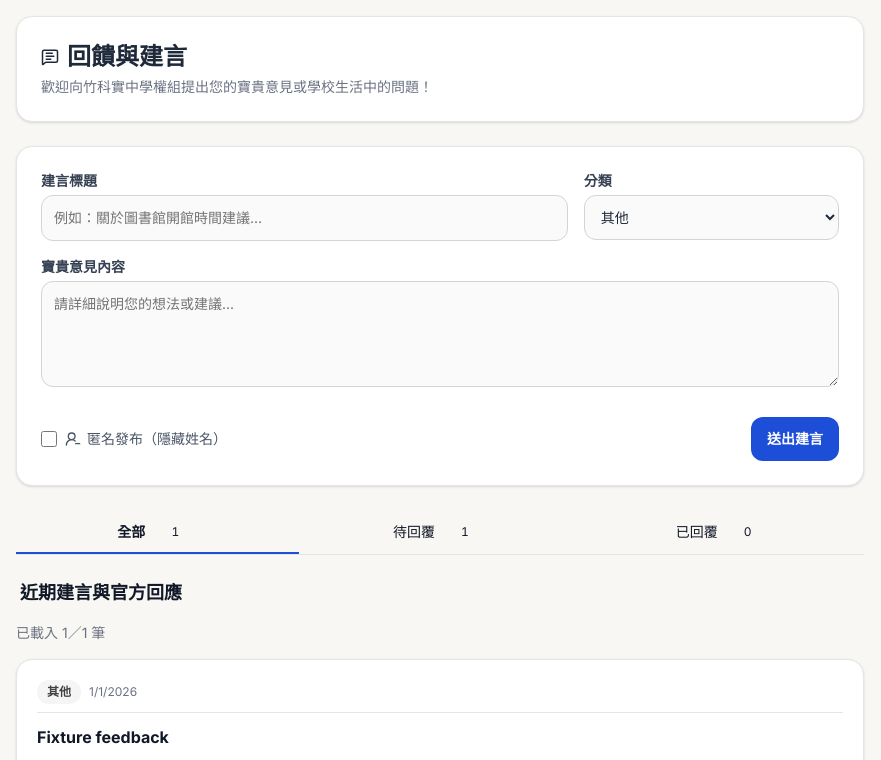
Test: failed submit shows error without success and retains input text
Type "Kept body text here" into the text box with placeholder "請詳細說明您的想法或建議..." at [440, 334], box [41,281,839,387]
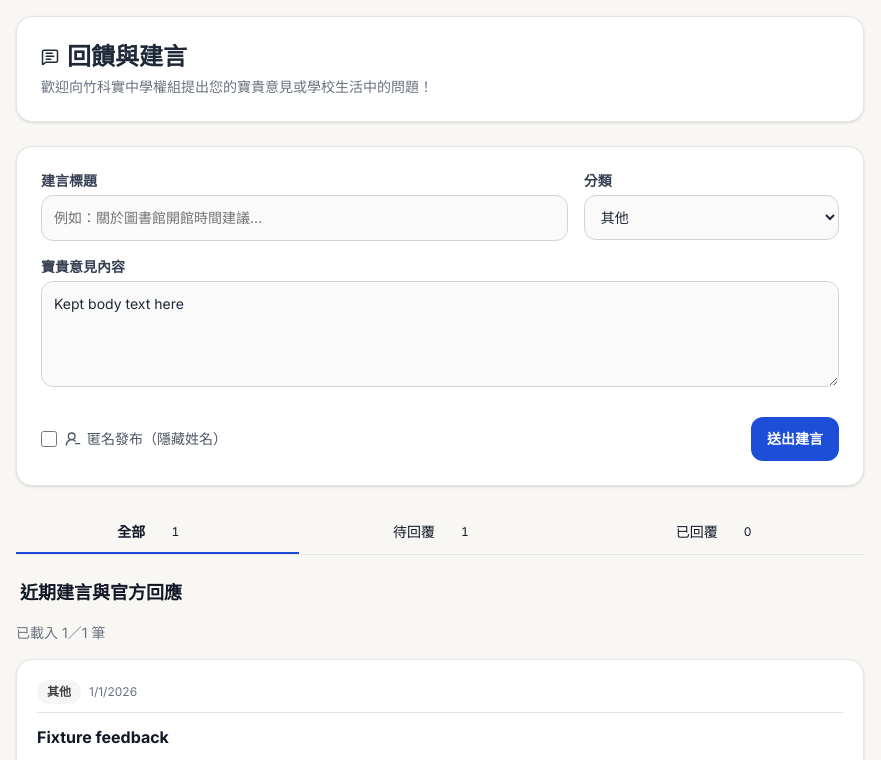
Click the button "送出建言" at [795, 439], box [751,417,839,461]
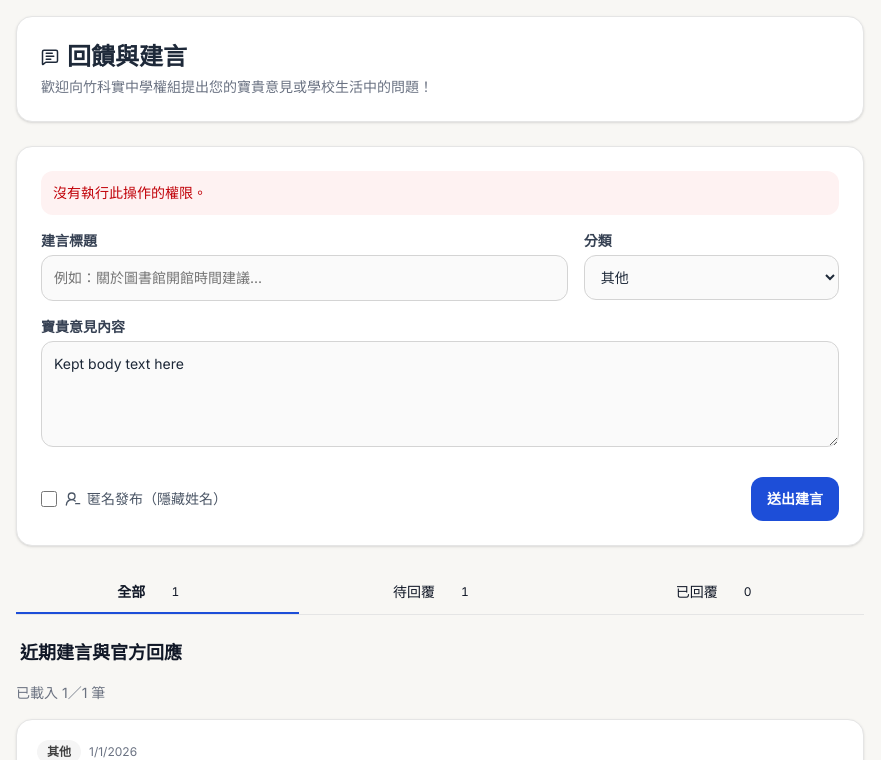
Expected: the message "沒有執行此操作的權限。" is shown, [41,171,839,215]
